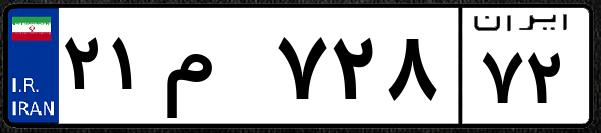1: (110, 28, 158, 98)
2: (330, 28, 385, 110), (57, 26, 110, 100), (525, 38, 570, 115)
7: (270, 28, 330, 110), (475, 38, 525, 113)
8: (385, 28, 445, 110)
م: (158, 20, 270, 120)
